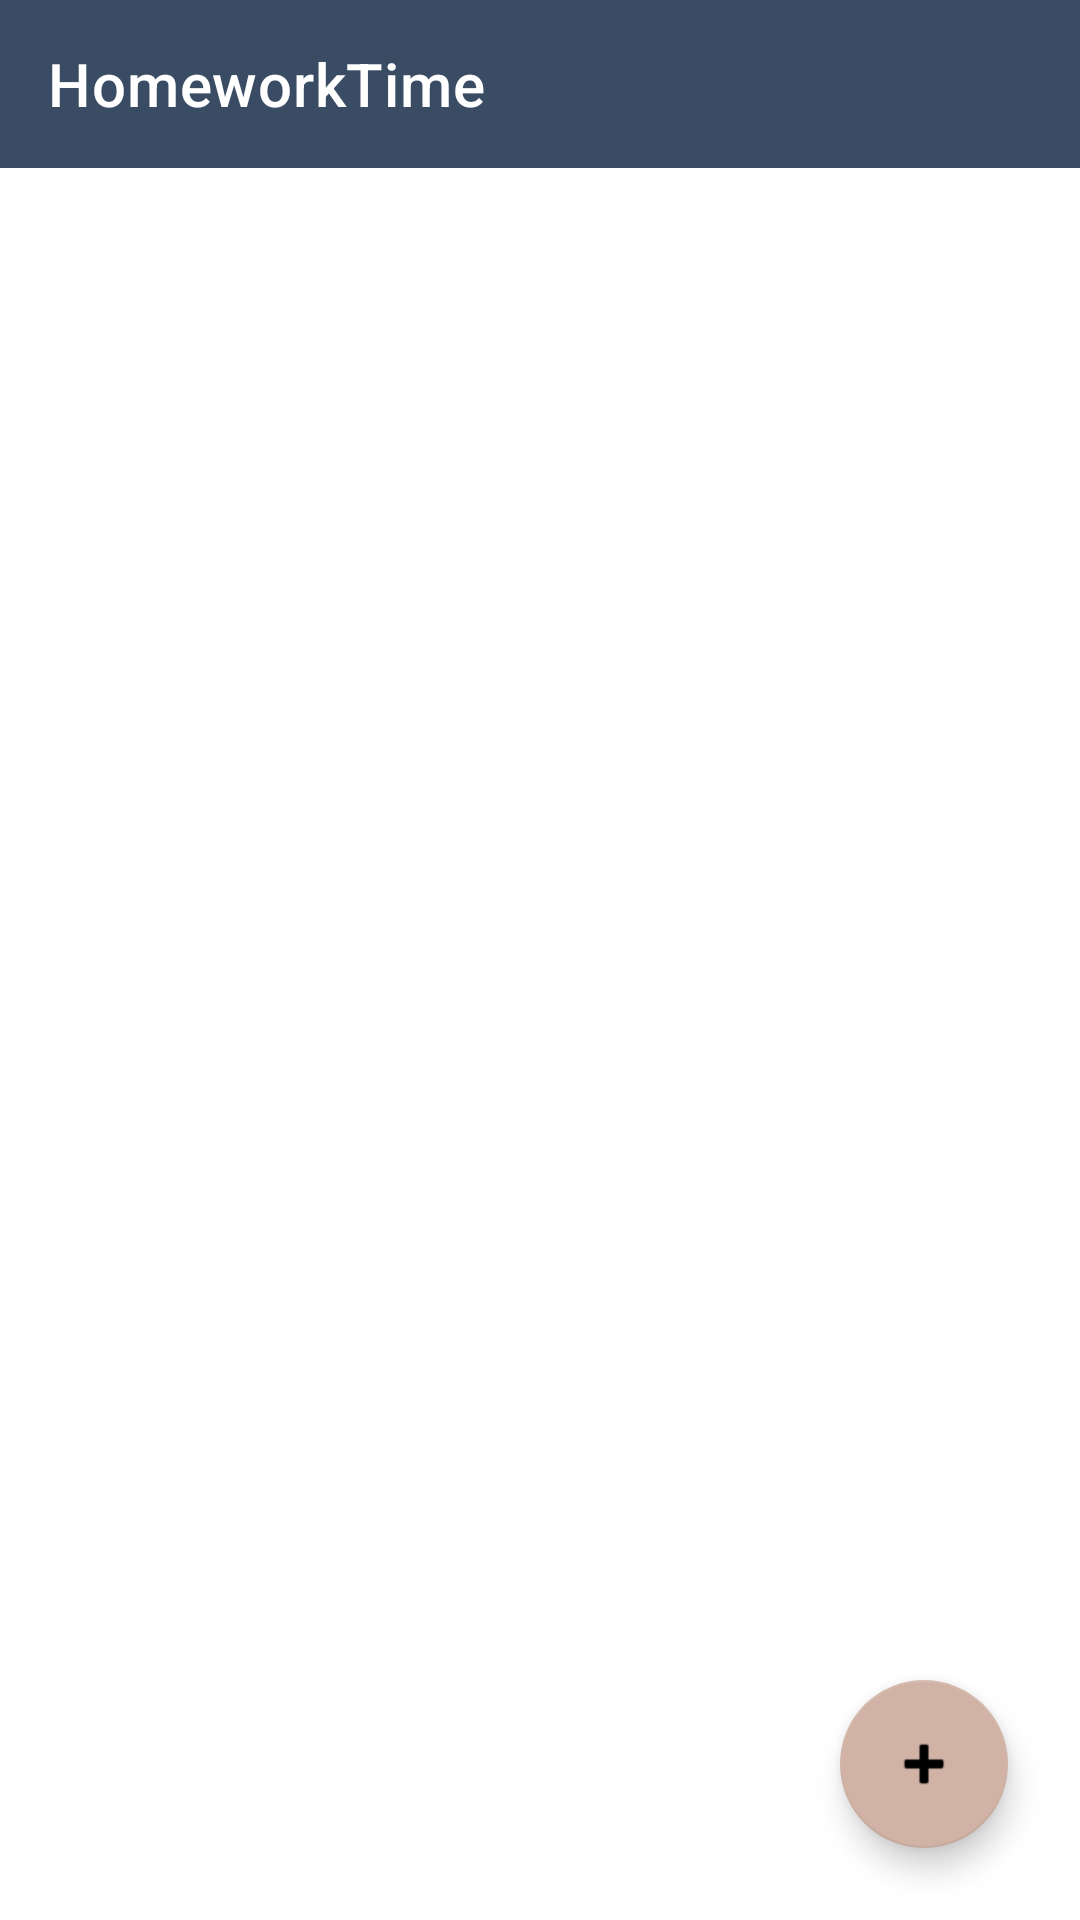

Icon bounding boxes for this 1080x1920 phone screenshot, format (x1, y1, x2, y2):
add new item: (840, 1680, 1008, 1848)
